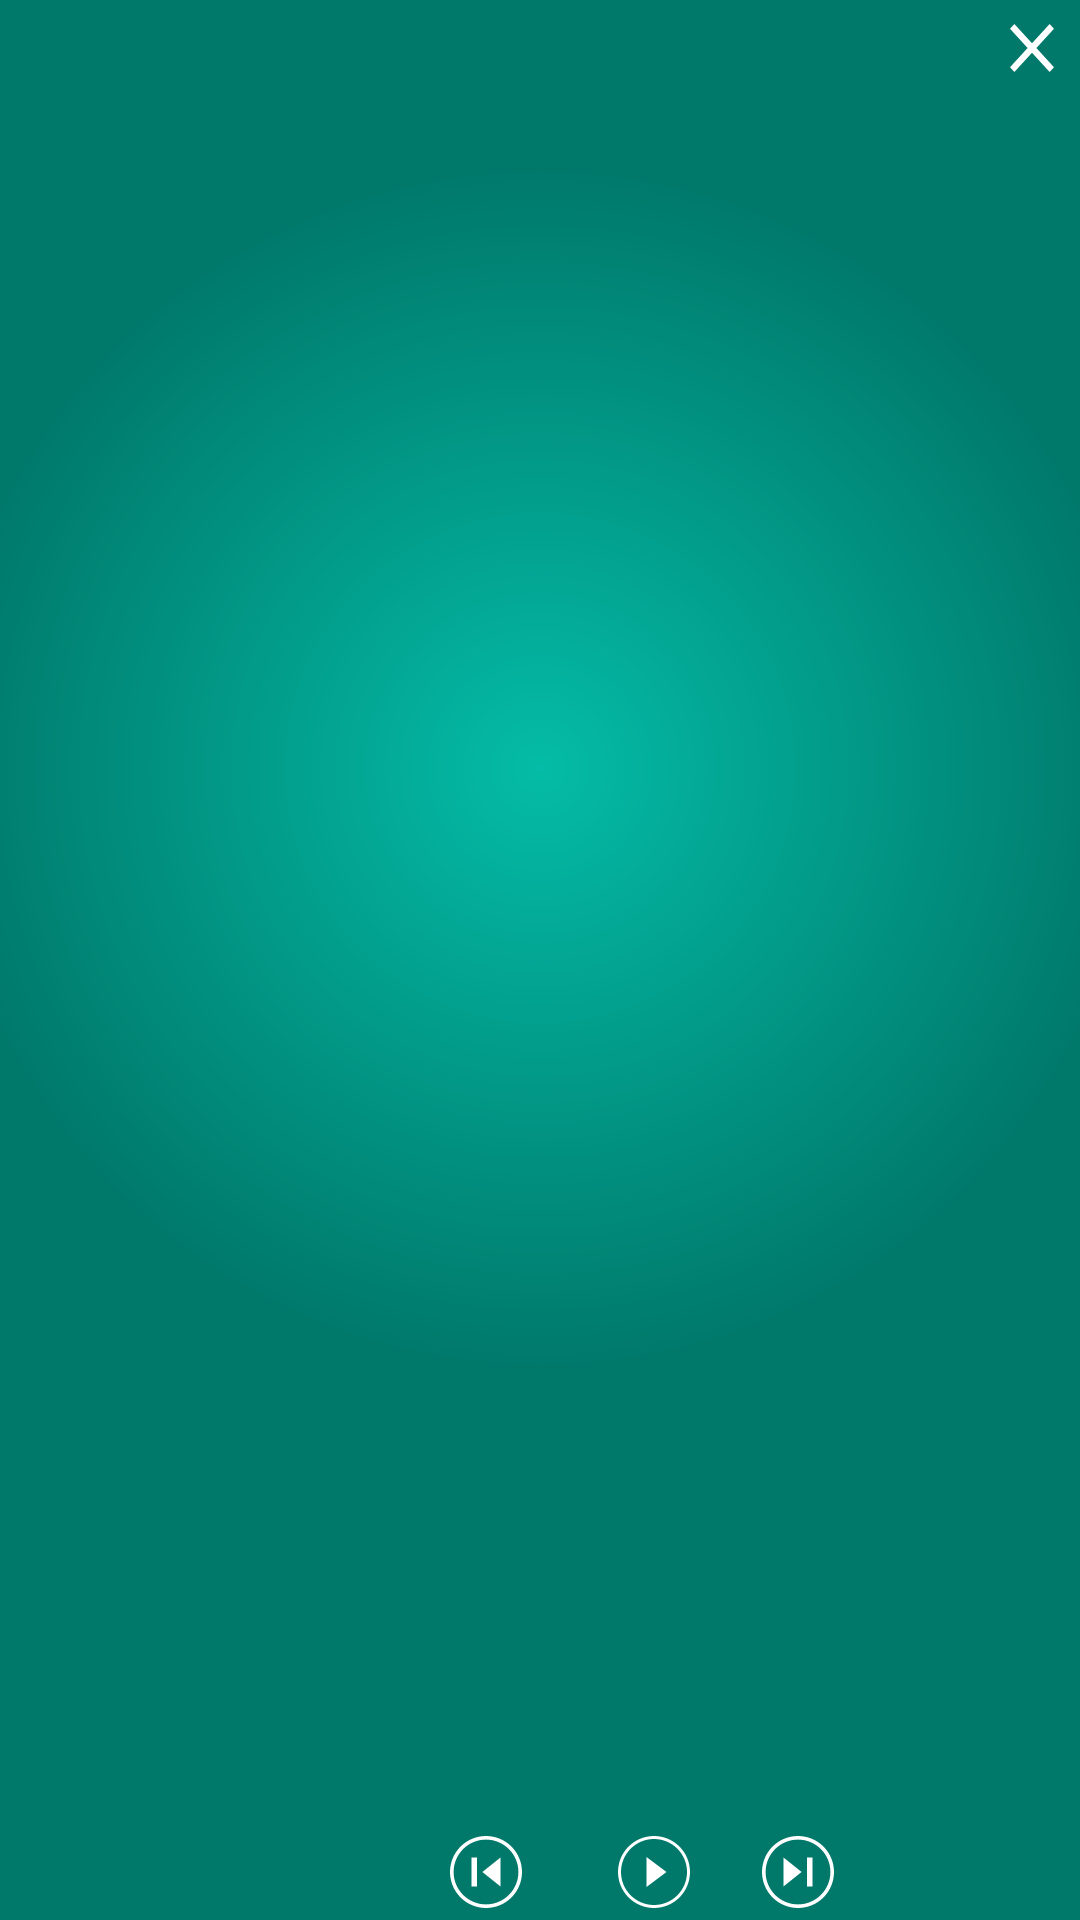

Icon bounding boxes for this 1080px x 1920px phone screenshot, format (x1, y1, x2, y2):
play next: (762, 1836, 834, 1908)
play previous: (450, 1836, 522, 1908)
play toogle: (618, 1836, 690, 1908)
remove view close: (1010, 24, 1054, 72)
